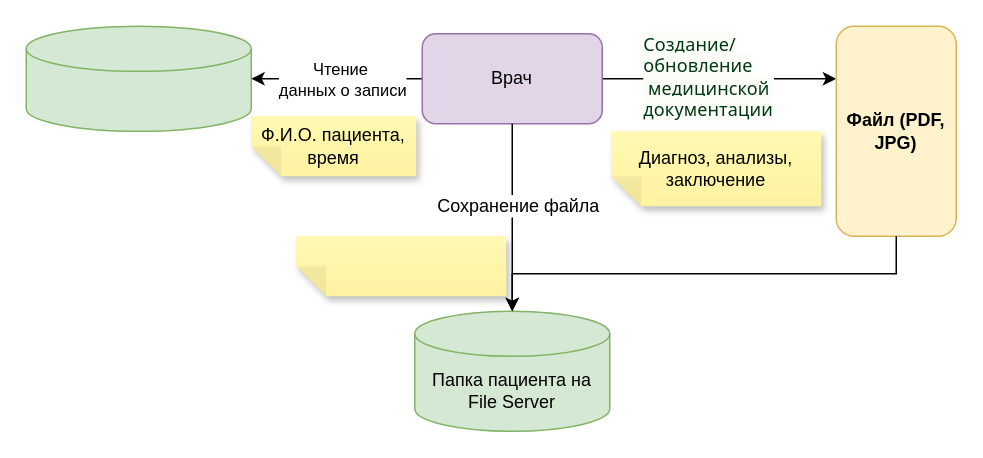
Image size: 983x458. Some labels were removed from this diagram. Here are the shapes that lost their labels. From the top down, the centre of each, then its label:
[138,78]: Journal-Doctor-FIO.xlsx (на File Server)
[402,268]: Медицинская документация
